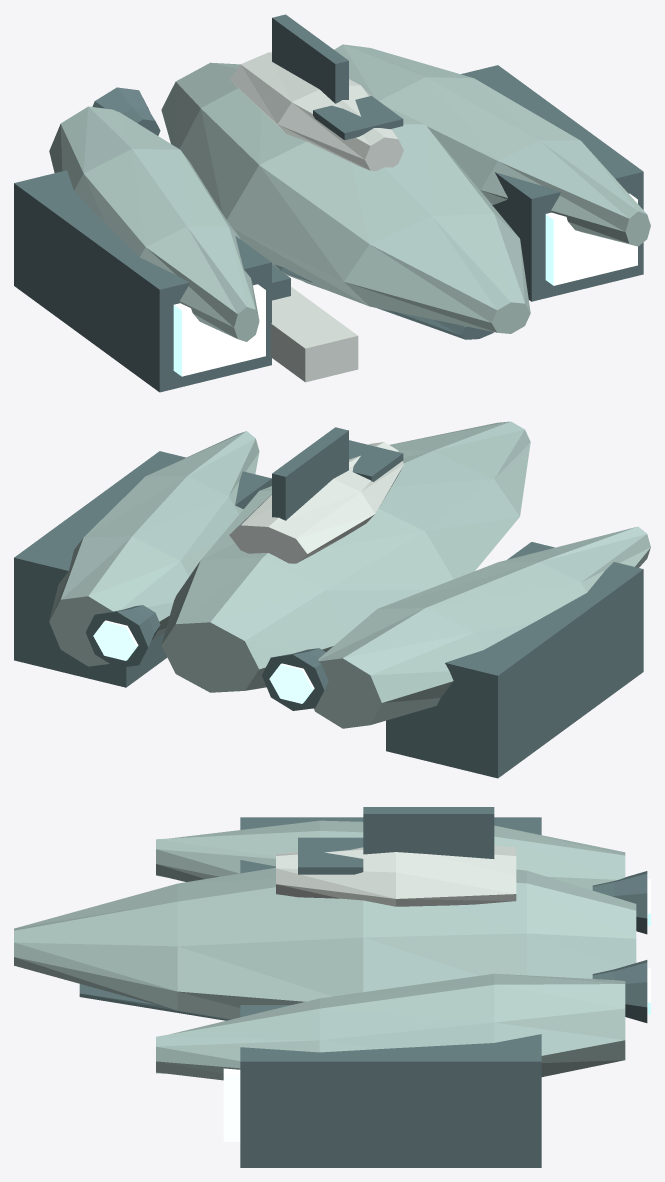
The picture shows the model from 3 angles, top to bottom: view 1: azimuth 30°, elevation 25°; view 2: azimuth 150°, elevation 25°; view 3: azimuth 270°, elevation 25°; orthographic projection. The views are drawn at different scales.
Size of the model in its own units: 13.81 by 6.2 by 15.22.
